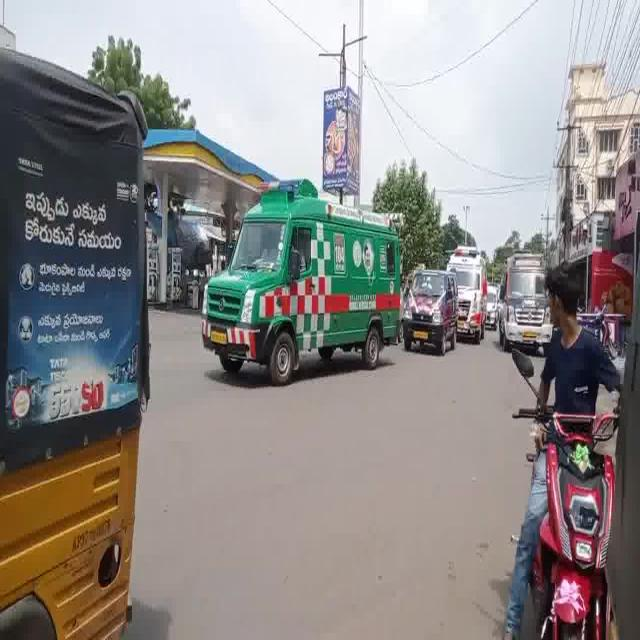ambulance: (198, 176, 403, 391), (444, 245, 495, 349), (508, 243, 548, 351)
